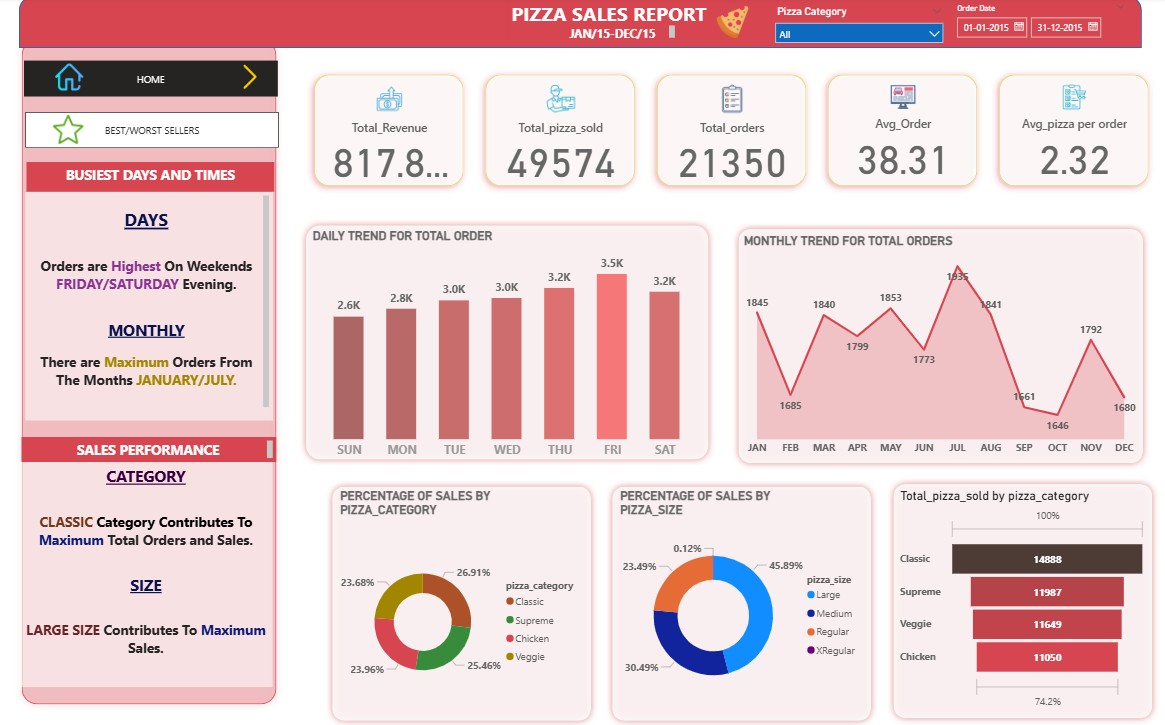

This screenshot's page, from the dashboard's own definition file:
{"tool":"powerbi","page":{"name":"HOME","canvas":[1600,1000],"ordinal":0},"visuals":[{"type":"shape","box":[22.3,49.7,367.1,929.7],"z":0},{"type":"cardVisual","fields":{"Data":["pizza_sales.Total_Revenue","pizza_sales.Total_pizza_sold","pizza_sales.Total_orders","pizza_sales.Avg_Order","pizza_sales.Avg_pizza per order"]},"box":[412.8,87.2,1187.5,191.9],"z":1000},{"type":"shape","box":[27.7,0,1540.6,70.1],"z":2000},{"type":"textbox","box":[697.7,0,309.6,55.2],"z":3000},{"type":"textbox","box":[776.2,34.9,155.5,29.1],"z":4000},{"type":"image","box":[864.8,7.3,283.4,55.2],"z":5000},{"type":"shape","box":[413.3,305.2,568.1,337.3],"z":6000},{"type":"clusteredColumnChart","title":"DAILY TREND FOR TOTAL ORDER","fields":{"Y":["pizza_sales.Total_orders"],"Category":["pizza_sales.ORDER DAY"]},"box":[424.9,316.9,544.7,325.6],"z":7000},{"type":"shape","box":[1007.6,311,571,337.3],"z":8000},{"type":"areaChart","title":" MONTHLY TREND FOR TOTAL ORDERS","fields":{"Category":["pizza_sales.ORDER MONTH"],"Y":["pizza_sales.Total_orders"]},"box":[1017.8,324.2,550.5,314],"z":9000},{"type":"shape","box":[1219.3,660,370.9,337.3],"z":10000},{"type":"shape","box":[833.8,663,370.9,337.3],"z":11000},{"type":"shape","box":[449.8,663,370.9,337.3],"z":12000},{"type":"donutChart","title":"PERCENTAGE OF SALES BY PIZZA_CATEGORY","fields":{"Category":["pizza_sales.pizza_category"],"Y":["pizza_sales.Total_Revenue"]},"box":[462.9,674.7,346.1,325.6],"z":13000},{"type":"donutChart","title":"PERCENTAGE OF SALES BY PIZZA_SIZE","fields":{"Category":["pizza_sales.pizza_size"],"Y":["pizza_sales.Total_Revenue"]},"box":[847,674.7,346.1,308.1],"z":14000},{"type":"funnel","fields":{"Category":["pizza_sales.pizza_category"],"Y":["pizza_sales.Total_pizza_sold"]},"box":[1231,674.7,347.5,308.1],"z":15000},{"type":"textbox","box":[37.7,226.4,339.6,41.2],"z":16000},{"type":"textbox","box":[36,267.6,339.6,313.9],"z":17000},{"type":"textbox","box":[30.9,603.8,349.9,34.3],"z":18000},{"type":"textbox","box":[27.4,638.1,348.2,308.7],"z":19000},{"type":"slicer","fields":{"Values":["pizza_sales.pizza_category"]},"box":[1054.3,7.3,251.2,58.4],"z":20000},{"type":"slicer","fields":{"Values":["pizza_sales.order_date"]},"box":[1301.1,2.9,254.1,64.3],"z":21000},{"type":"pageNavigator","box":[34.3,87.5,348.2,49.7],"z":22000},{"type":"pageNavigator","box":[36,157.8,348.2,49.7],"z":23000},{"type":"image","box":[322.5,87.5,44.6,44.6],"z":24000},{"type":"image","box":[41.2,85.8,109.8,48],"z":25000},{"type":"image","box":[56.6,156.1,77.2,51.5],"z":26000}]}

Visuals, with their boxes in screenshot pixels (x1, y1, x2, y2), scaled from the page's 1600x1000 canvas onto the 1165x725 screenshot:
shape: [x1=16, y1=36, x2=284, y2=710]
cardVisual - pizza_sales.Total_Revenue x pizza_sales.Total_pizza_sold: [x1=301, y1=63, x2=1164, y2=202]
shape: [x1=20, y1=0, x2=1142, y2=51]
textbox: [x1=508, y1=0, x2=733, y2=40]
textbox: [x1=565, y1=25, x2=678, y2=46]
image: [x1=630, y1=5, x2=836, y2=45]
shape: [x1=301, y1=221, x2=715, y2=466]
"DAILY TREND FOR TOTAL ORDER" clusteredColumnChart: [x1=309, y1=230, x2=706, y2=466]
shape: [x1=734, y1=225, x2=1149, y2=470]
" MONTHLY TREND FOR TOTAL ORDERS" areaChart: [x1=741, y1=235, x2=1142, y2=463]
shape: [x1=888, y1=478, x2=1158, y2=723]
shape: [x1=607, y1=481, x2=877, y2=724]
shape: [x1=328, y1=481, x2=598, y2=724]
"PERCENTAGE OF SALES BY PIZZA_CATEGORY" donutChart: [x1=337, y1=489, x2=589, y2=724]
"PERCENTAGE OF SALES BY PIZZA_SIZE" donutChart: [x1=617, y1=489, x2=869, y2=713]
funnel - pizza_sales.pizza_category x pizza_sales.Total_pizza_sold: [x1=896, y1=489, x2=1149, y2=713]
textbox: [x1=27, y1=164, x2=275, y2=194]
textbox: [x1=26, y1=194, x2=273, y2=422]
textbox: [x1=22, y1=438, x2=277, y2=463]
textbox: [x1=20, y1=463, x2=273, y2=686]
slicer - pizza_sales.pizza_category: [x1=768, y1=5, x2=951, y2=48]
slicer - pizza_sales.order_date: [x1=947, y1=2, x2=1132, y2=49]
pageNavigator: [x1=25, y1=63, x2=279, y2=99]
pageNavigator: [x1=26, y1=114, x2=280, y2=150]
image: [x1=235, y1=63, x2=267, y2=96]
image: [x1=30, y1=62, x2=110, y2=97]
image: [x1=41, y1=113, x2=97, y2=151]
